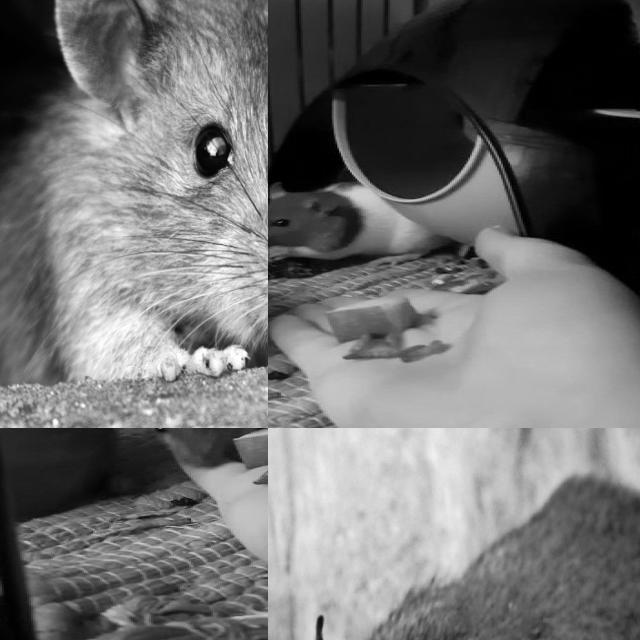rat: (0, 0, 268, 382), (268, 474, 640, 640), (268, 177, 450, 270), (122, 428, 268, 471)
